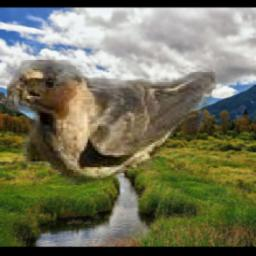Swallow: (8, 60, 217, 185)
